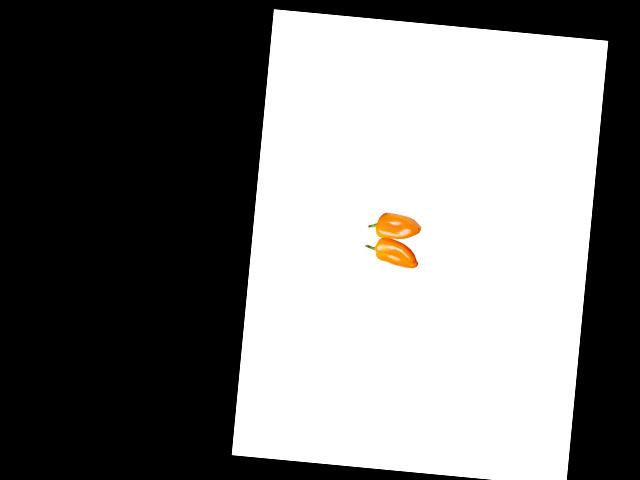bell_pepper: (366, 205, 433, 243)
